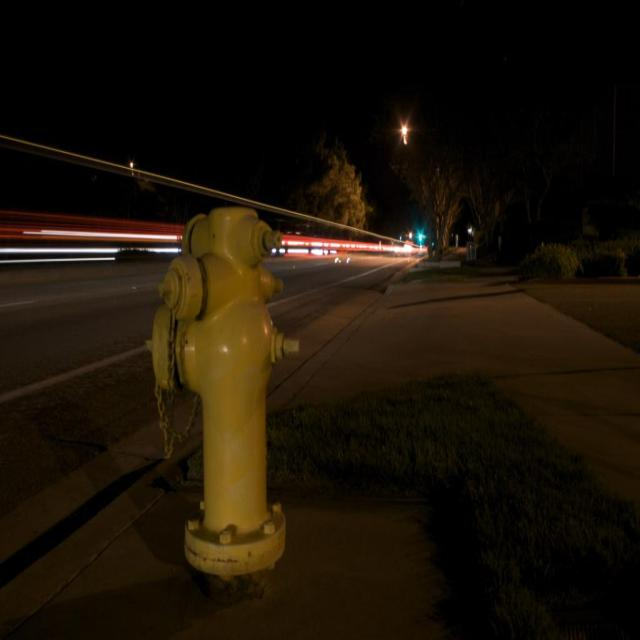fire_hydrant: (146, 203, 300, 576)
